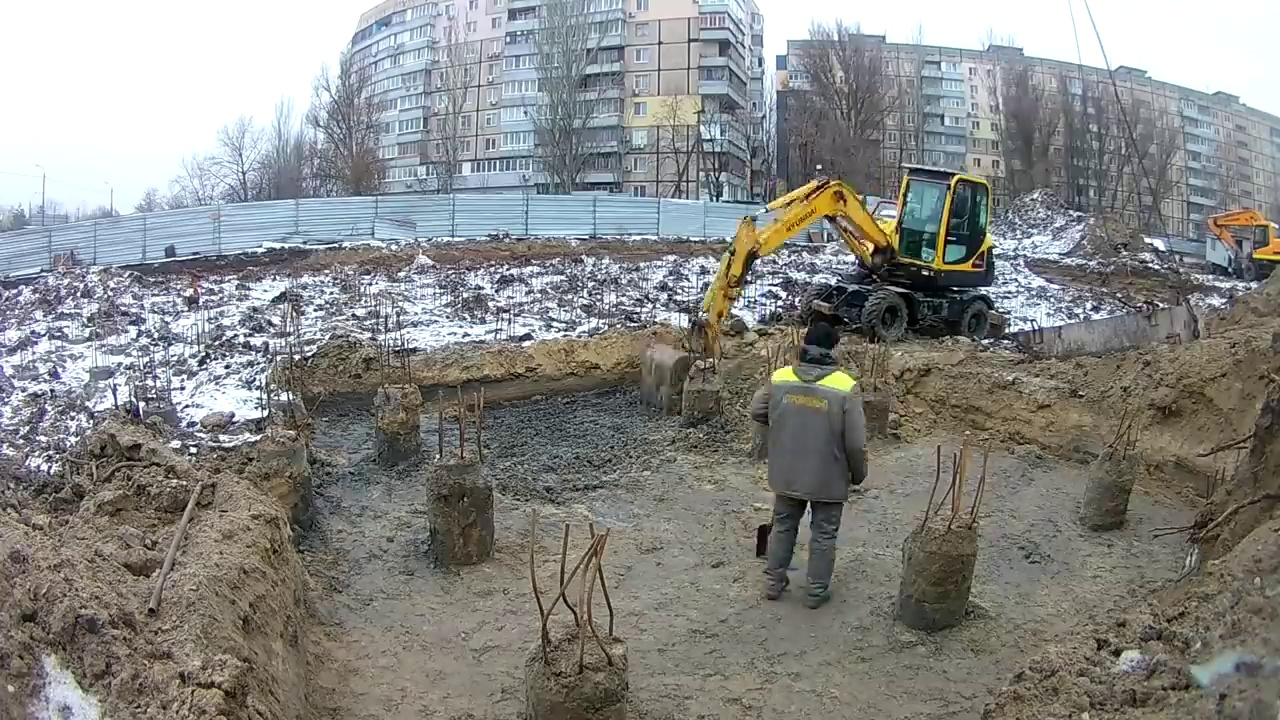helmet-off: (801, 322, 843, 371)
person: (751, 323, 871, 612)
